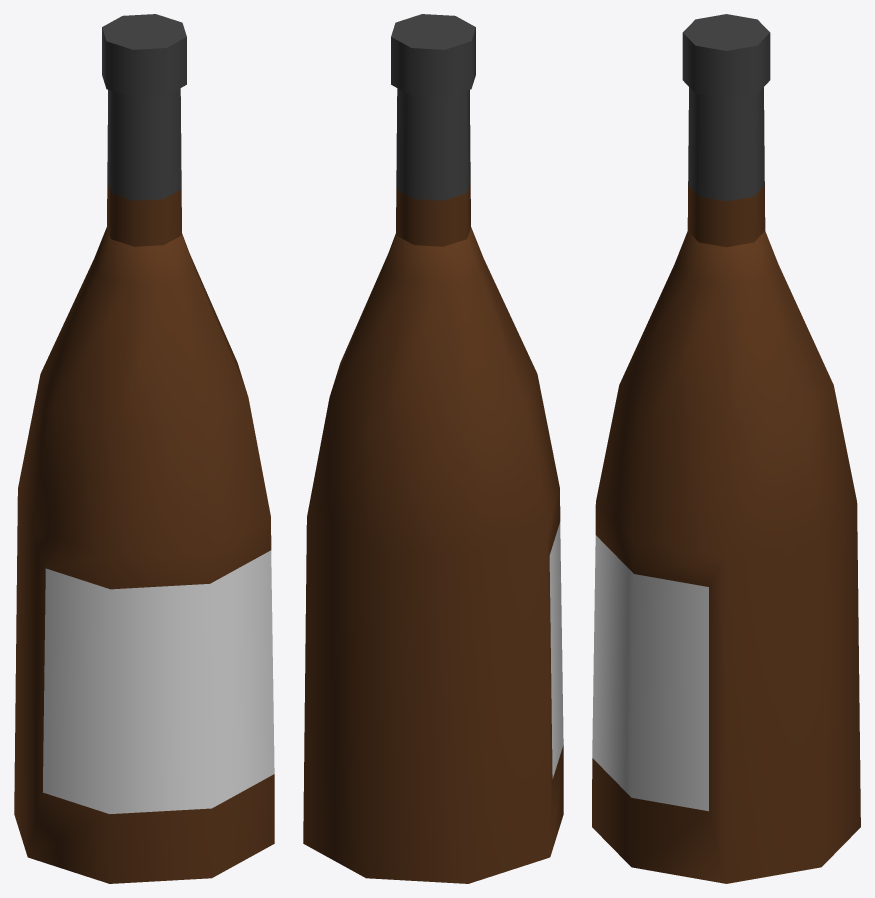
File: prop_059.fbx
The picture shows the model from 3 angles, left to right: view 1: azimuth 30°, elevation 25°; view 2: azimuth 150°, elevation 25°; view 3: azimuth 270°, elevation 25°; orthographic projection.
Parts seen in each view (by area): view 1: prop_059; view 2: prop_059; view 3: prop_059.
Boxes of the visible parts, x1,y1,x2,y2 form: prop_059: (14,14,274,883); prop_059: (303,14,563,883); prop_059: (592,14,860,883).
Bounding box in the file's own units: 13.76 × 13.76 × 44.85.
